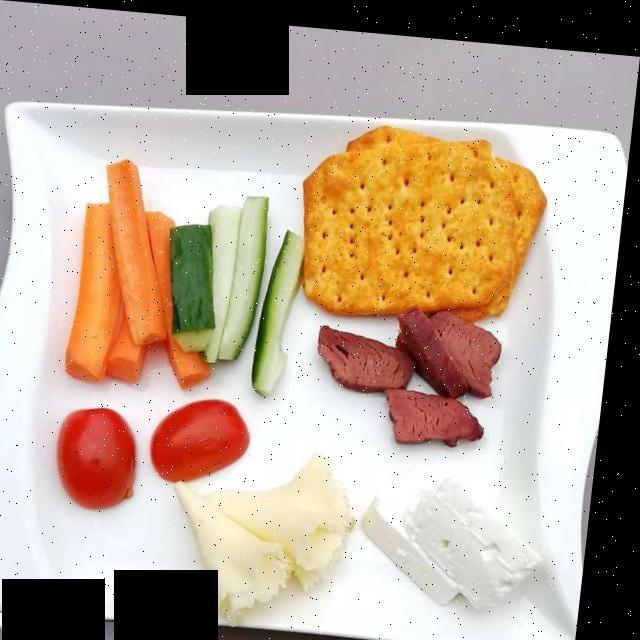carrot: (76, 163, 179, 378)
cheese: (392, 470, 548, 599)
cucumber: (179, 184, 307, 377)
dried-meat: (333, 305, 506, 432)
tete-de-moine: (191, 449, 365, 612)
tomato: (67, 393, 259, 502)
